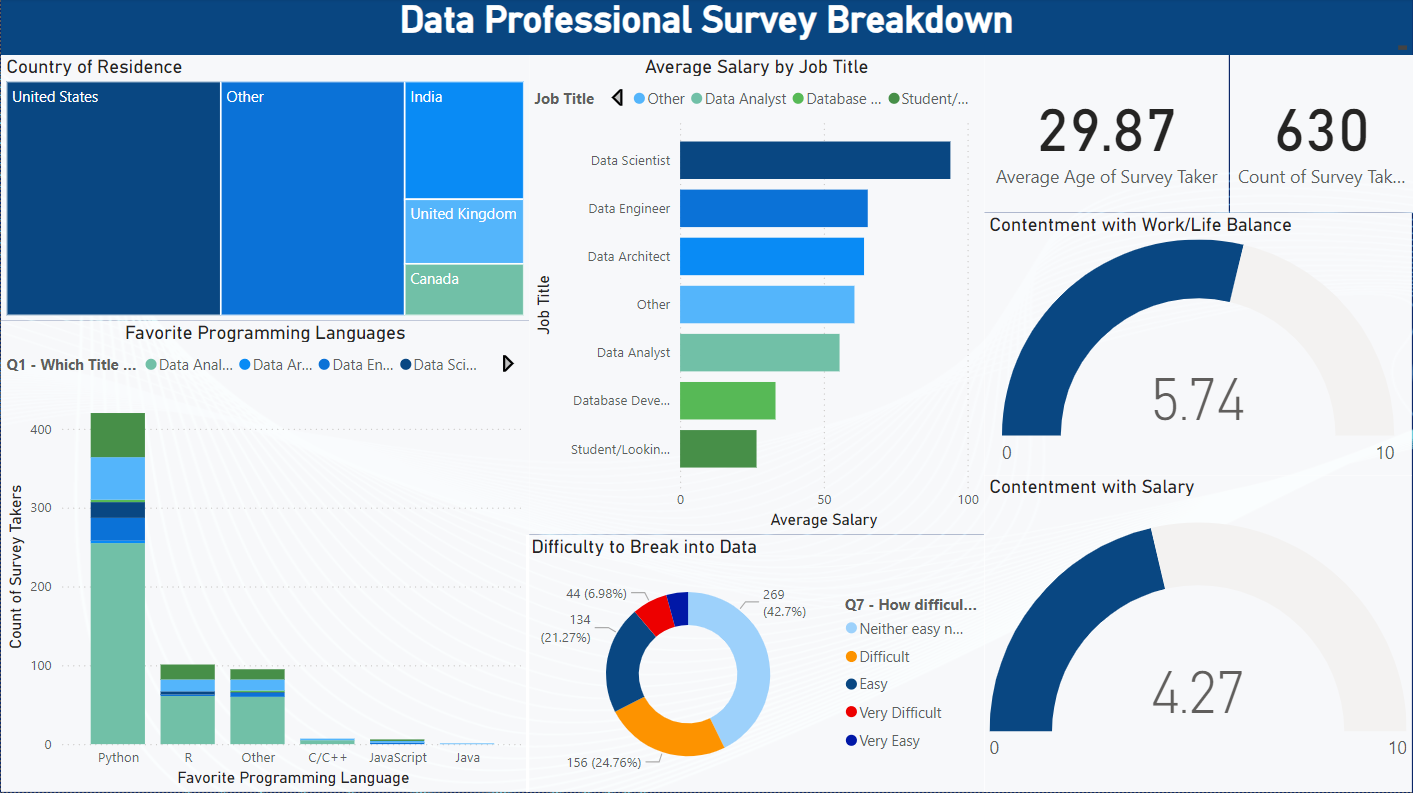

The dashboard page shown, as its layout file describes it:
{"tool":"powerbi","page":{"name":"Page 1","canvas":[1280,720],"ordinal":0},"visuals":[{"type":"textbox","title":"Data Professional Survey Breakdown","box":[0,0,1280,52],"z":0},{"type":"card","fields":{"Values":["Count(Data Professional Survey.Unique ID)"]},"box":[1114.1,52,165.9,142.7],"z":1000},{"type":"card","fields":{"Values":["Avg(Data Professional Survey.Q10 - Current Age)"]},"box":[891.7,52,222.4,142.7],"z":2000},{"type":"barChart","title":"Average Salary by Job Title","fields":{"Category":["Data Professional Survey.Q1 - Which Title Best Fits your Current Role?.1"],"Y":["Avg(Data Professional Survey.Average Salary)"],"Series":["Data Professional Survey.Q1 - Which Title Best Fits your Current Role?.1"]},"box":[479,52,412.7,434.8],"z":3000},{"type":"columnChart","title":"Favorite Programming Languages","fields":{"Category":["Data Professional Survey.Q5 - Favorite Programming Language.1"],"Y":["CountNonNull(Data Professional Survey.Unique ID)"],"Series":["Data Professional Survey.Q1 - Which Title Best Fits your Current Role?.1"]},"box":[0,293.2,479,427],"z":4000},{"type":"treemap","title":"Country of Residence","fields":{"Group":["Data Professional Survey.Q11 - Which Country do you live in?.1"],"Values":["CountNonNull(Data Professional Survey.Q11 - Which Country do you live in?.1)"]},"box":[0,52,479,241.2],"z":5000},{"type":"gauge","title":"Contentment with Salary","fields":{"Y":["Avg(Data Professional Survey.Q6 - How Happy are you in your Current Position with the following? (Salary))"],"MinValue":["Min(Data Professional Survey.Q6 - How Happy are you in your Current Position with the following? (Salary))1"],"MaxValue":["Max(Data Professional Survey.Q6 - How Happy are you in your Current Position with the following? (Salary))2"]},"box":[891.7,432.6,388.3,287.6],"z":5001},{"type":"gauge","title":"Contentment with Work/Life Balance","fields":{"Y":["Avg(Data Professional Survey.Q6 - How Happy are you in your Current Position with the following? (Work/Life Balance))"],"MinValue":["Min(Data Professional Survey.Q6 - How Happy are you in your Current Position with the following? (Work/Life Balance))1"],"MaxValue":["Max(Data Professional Survey.Q6 - How Happy are you in your Current Position with the following? (Work/Life Balance))2"]},"box":[891.7,194.7,388.3,237.9],"z":5002},{"type":"donutChart","title":"Difficulty to Break into Data","fields":{"Category":["Data Professional Survey.Q7 - How difficult was it for you to break into Data?"],"Y":["CountNonNull(Data Professional Survey.Q7 - How difficult was it for you to break into Data?)"]},"box":[475.7,486.8,416,233.4],"z":5003}]}

Visuals, with their boxes in screenshot pixels (x1, y1, x2, y2), scaled from the page's 1280x720 canvas onto the 1413x793 screenshot:
"Data Professional Survey Breakdown" textbox: <box>0,0,1412,57</box>
card - Count(Data Professional Survey.Unique ID): <box>1230,57,1412,214</box>
card - Avg(Data Professional Survey.Q10 - Current Age): <box>984,57,1230,214</box>
"Average Salary by Job Title" barChart: <box>529,57,984,536</box>
"Favorite Programming Languages" columnChart: <box>0,323,529,792</box>
"Country of Residence" treemap: <box>0,57,529,323</box>
"Contentment with Salary" gauge: <box>984,476,1412,792</box>
"Contentment with Work/Life Balance" gauge: <box>984,214,1412,476</box>
"Difficulty to Break into Data" donutChart: <box>525,536,984,792</box>
